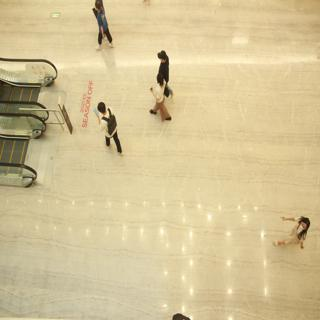person: (91, 97, 129, 158), (85, 1, 125, 57), (271, 208, 313, 258), (153, 47, 185, 91), (151, 72, 177, 126)
